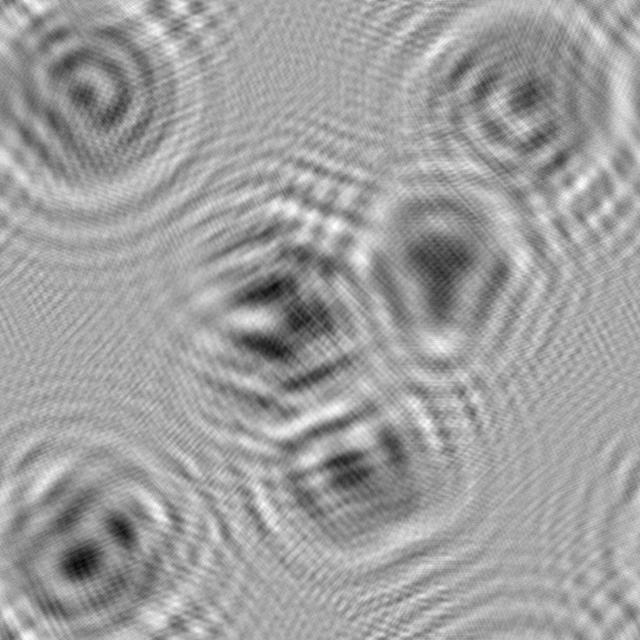A: (319, 141, 586, 415)
D: (0, 0, 231, 247)
R: (0, 403, 229, 640)
U: (368, 0, 640, 250)
W: (144, 143, 401, 465)
